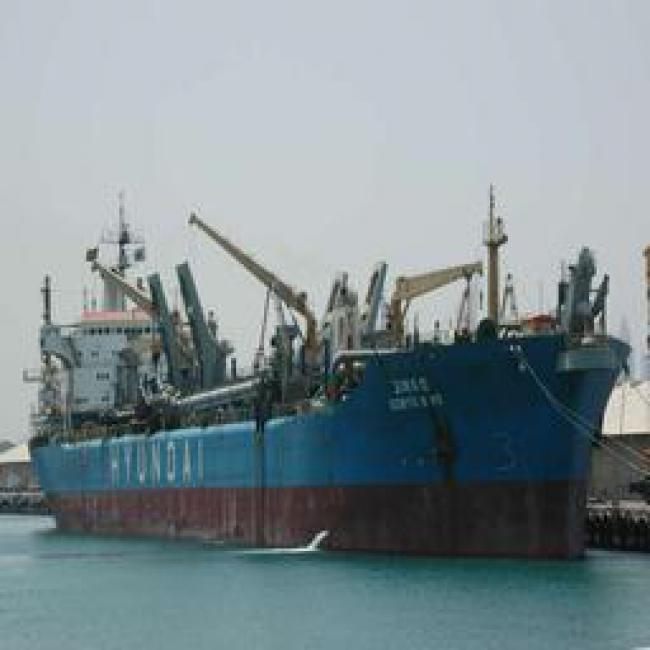Ship: (25, 211, 634, 574)
